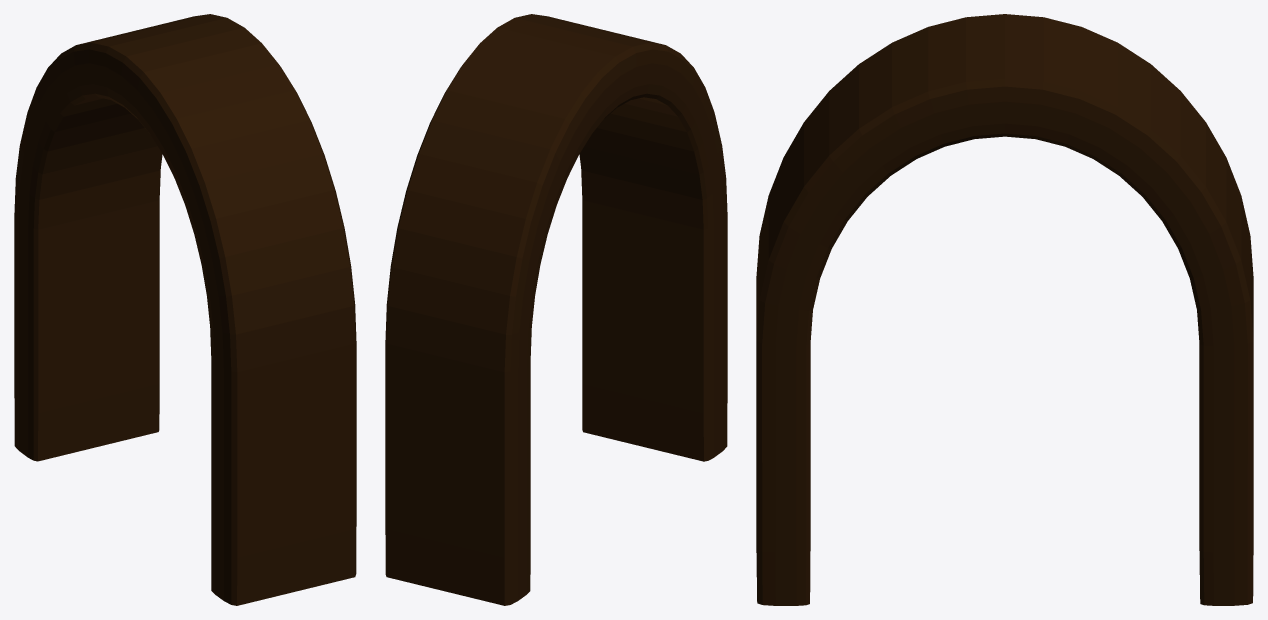
File: Wall_Arch_(Outlined)v003.fbx
3 views of the same model, side by side, from view 1: azimuth 30°, elevation 25°; view 2: azimuth 150°, elevation 25°; view 3: azimuth 270°, elevation 25° (orthographic). The views are drawn at different scales.
Parts seen in each view (by area): view 1: Arch; view 2: Arch; view 3: Arch.
Boxes of the visible parts, left/top/right/bottom form: Arch: left=14, top=14, right=356, bottom=605; Arch: left=385, top=14, right=727, bottom=605; Arch: left=756, top=14, right=1253, bottom=605.
Size of the model in its own units: 2.02 by 7.06 by 6.06.
